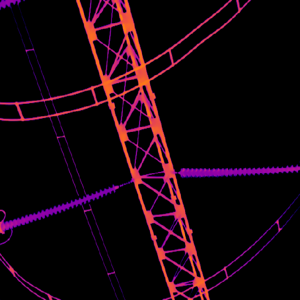insulator: (2, 180, 119, 230), (178, 161, 300, 180)
